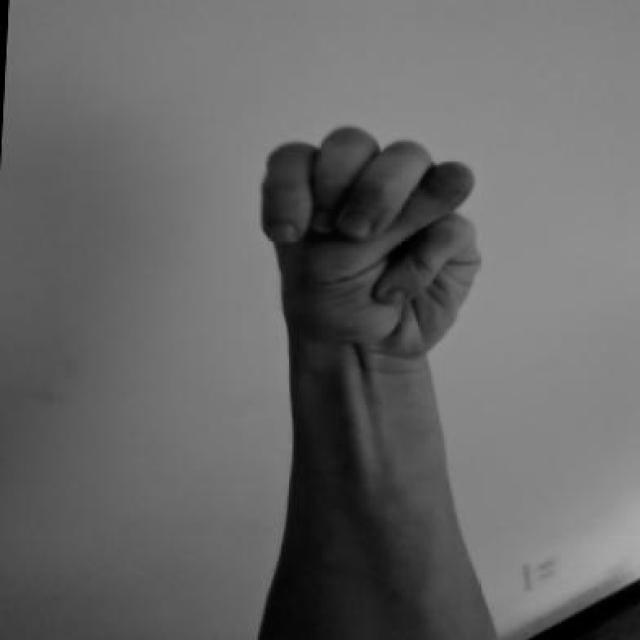M: (242, 112, 496, 375)
